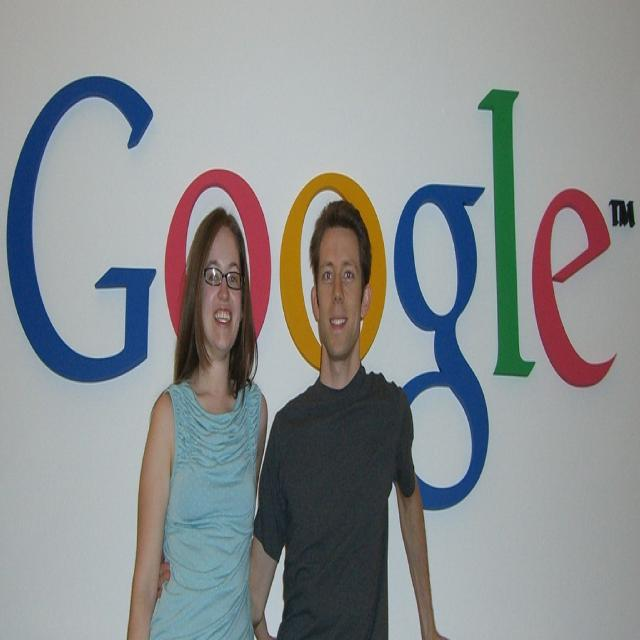google: (2, 63, 630, 519)
